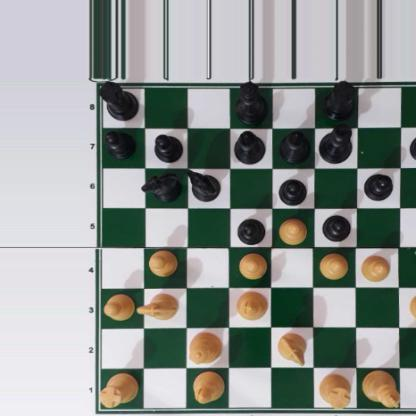black-bishop: (279, 130, 312, 165), (234, 130, 265, 164)
black-king: (318, 124, 354, 165)
black-knight: (141, 173, 180, 201), (186, 169, 220, 200)
black-pawn: (278, 175, 308, 205), (321, 212, 351, 242), (104, 129, 135, 158), (363, 172, 394, 201), (237, 215, 266, 244), (154, 132, 181, 162), (410, 132, 416, 162)
black-queen: (233, 81, 270, 124)
black-rook: (98, 79, 140, 122), (322, 81, 357, 120)
white-bishop: (192, 370, 223, 404), (237, 289, 268, 319)
white-king: (362, 369, 402, 409)
white-knight: (277, 332, 309, 366), (136, 294, 179, 319)
white-pawn: (360, 251, 390, 283), (319, 251, 348, 279), (238, 251, 267, 279), (278, 216, 308, 243), (147, 249, 177, 276), (104, 295, 135, 319), (407, 292, 416, 323)
white-queen: (189, 329, 221, 366)
white-rook: (98, 372, 138, 407), (319, 374, 353, 409)
